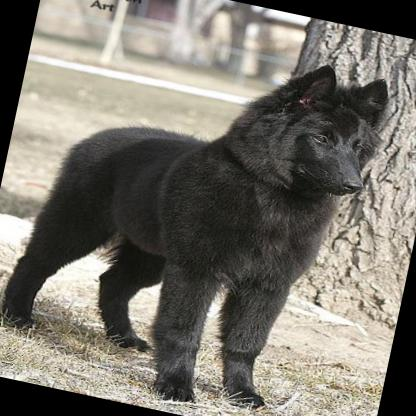groenendael: (0, 8, 398, 416)
